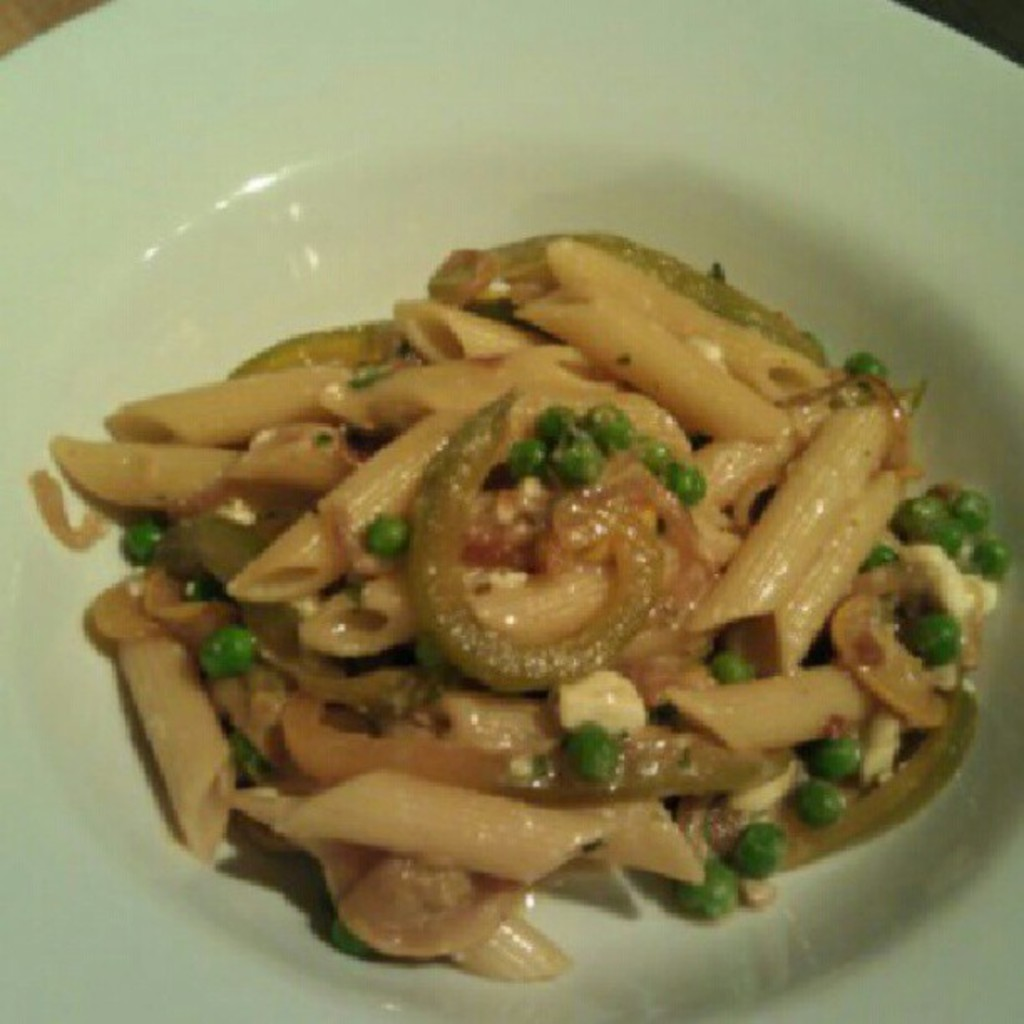pasta: (67, 202, 1021, 969)
